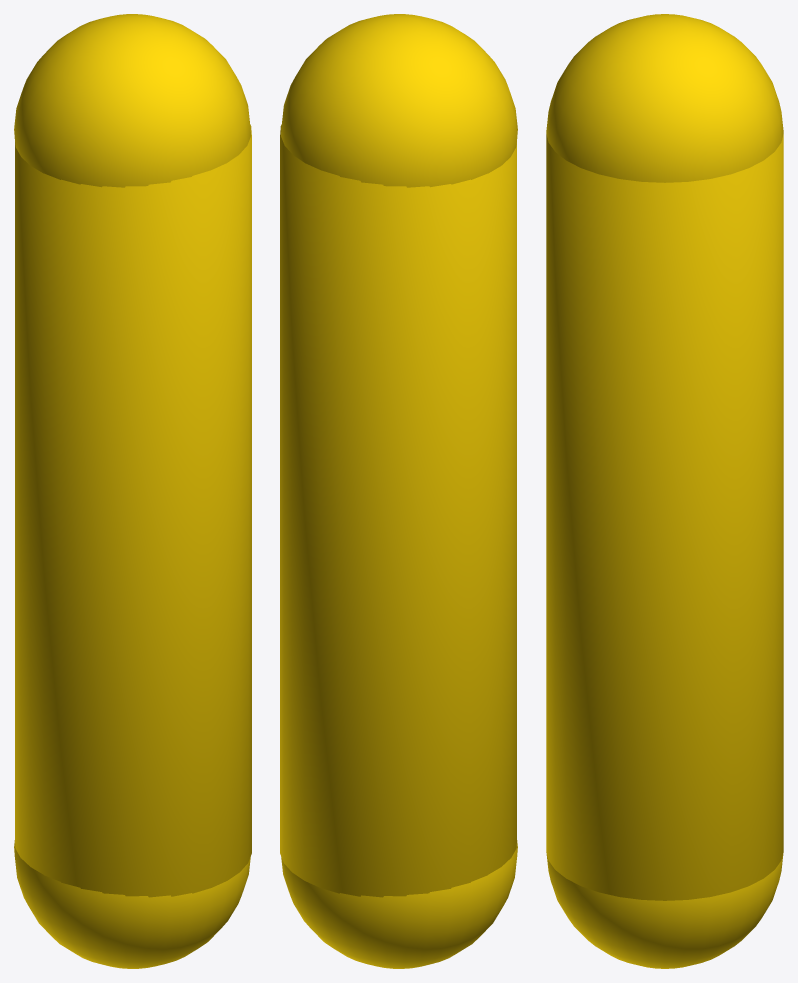
The model's file is arm1.dae.
3 renders of one model, left to right at view 1: azimuth 30°, elevation 25°; view 2: azimuth 150°, elevation 25°; view 3: azimuth 270°, elevation 25°, orthographic.
Parts seen in each view (by area): view 1: Cylinder.006, Sphere.002, Sphere.003; view 2: Cylinder.006, Sphere.002, Sphere.003; view 3: Cylinder.006, Sphere.002, Sphere.003.
Boxes of the visible parts, box(x1,y1,x2,y2) form: Cylinder.006: box(15, 125, 251, 897); Sphere.002: box(14, 14, 250, 187); Sphere.003: box(14, 840, 250, 968); Cylinder.006: box(280, 125, 516, 897); Sphere.002: box(281, 14, 517, 187); Sphere.003: box(281, 840, 517, 968); Cylinder.006: box(546, 134, 783, 900); Sphere.002: box(546, 14, 783, 182); Sphere.003: box(546, 852, 783, 968).
Bounding box in the file's own units: 0.1807 × 0.18 × 0.78.
